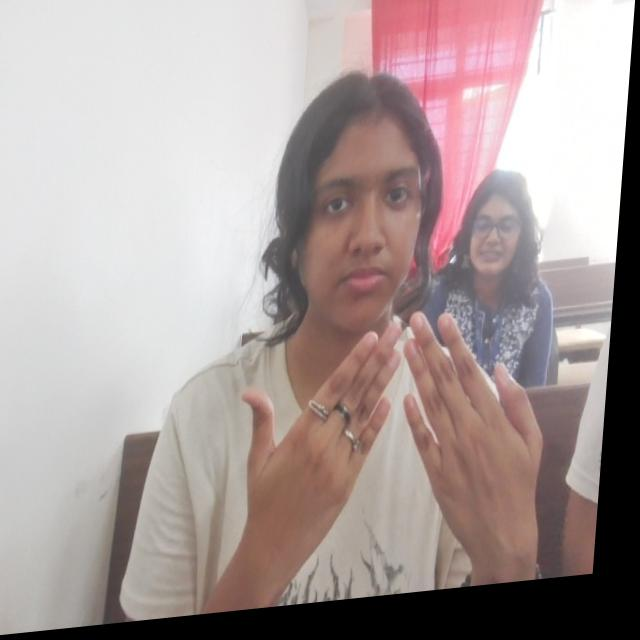thankyou: (234, 308, 567, 593)
